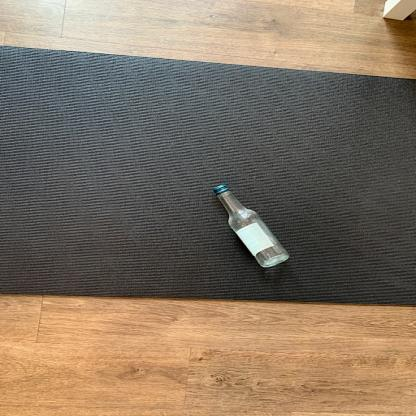trash: (213, 186, 291, 270)
